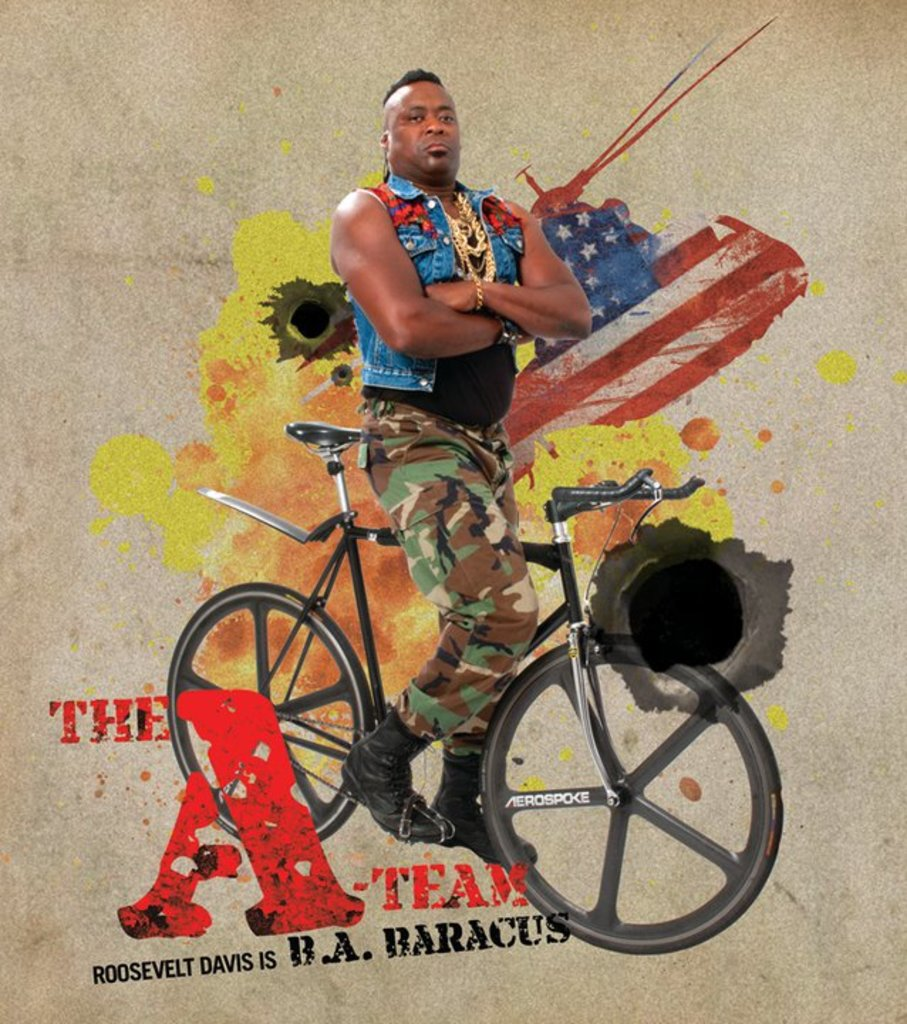Bike_toward: (163, 418, 782, 956)
